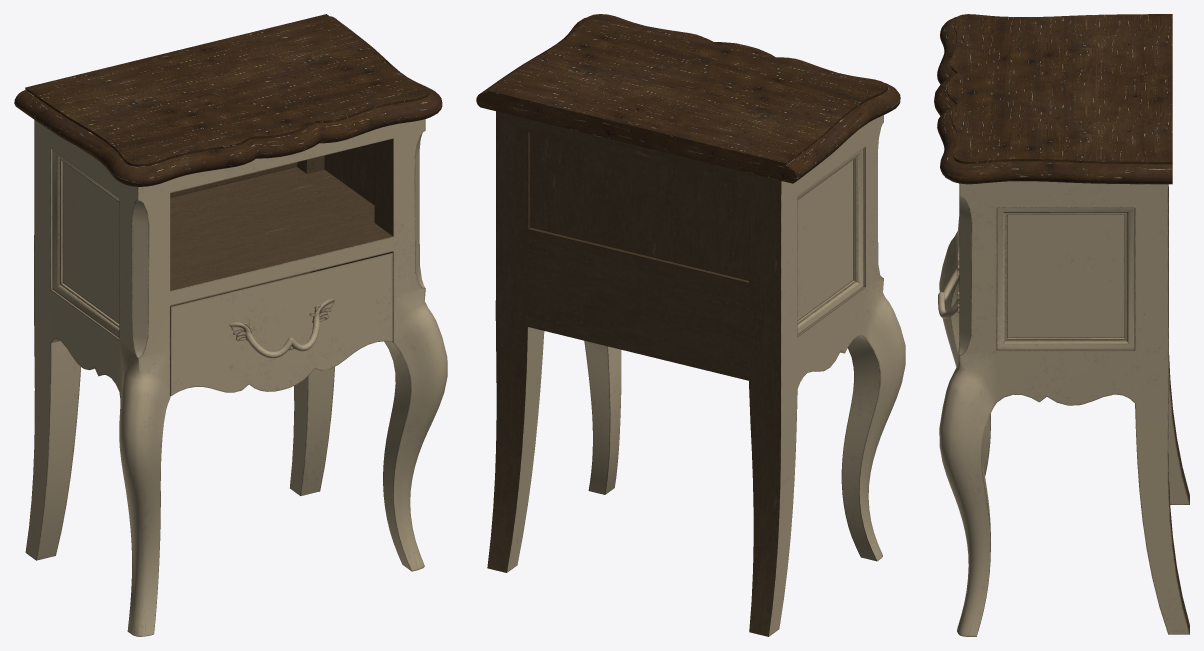
The model's file is example159.gltf.
3 renders of one model, left to right at view 1: azimuth 30°, elevation 25°; view 2: azimuth 150°, elevation 25°; view 3: azimuth 270°, elevation 25°, orthographic.
Bounding box in the file's own units: 44.98 × 62.99 × 30.61.
Materials: 2 (2 with a texture image).
